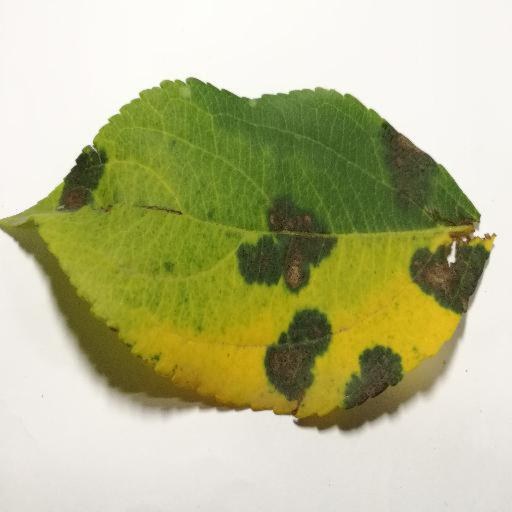Brown_Spot: (255, 321, 325, 407), (260, 205, 329, 289), (417, 247, 474, 307), (385, 130, 419, 208), (56, 149, 99, 209), (351, 358, 397, 401)
